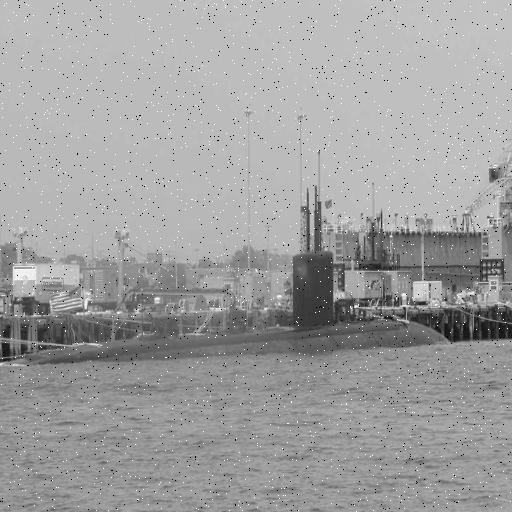submarine: (1, 144, 457, 370)
